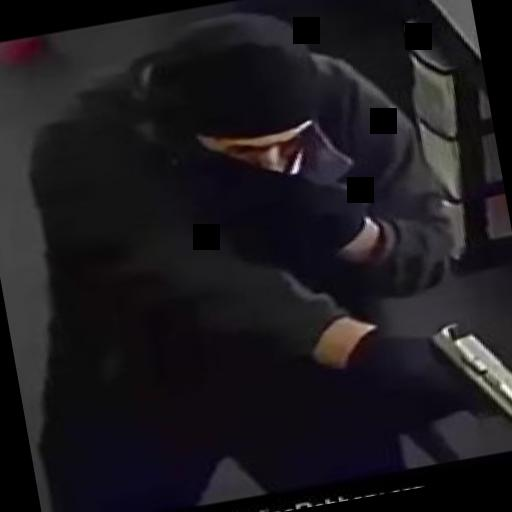Handgun: (378, 303, 512, 459)
